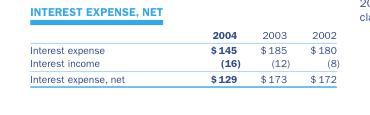table: (29, 28, 338, 84)
table column: (29, 28, 166, 84), (166, 28, 249, 84), (249, 28, 299, 84), (299, 28, 338, 84)
table column header: (29, 28, 338, 42)
table row: (29, 28, 338, 42), (29, 42, 338, 56), (29, 56, 338, 70), (29, 70, 338, 84)
